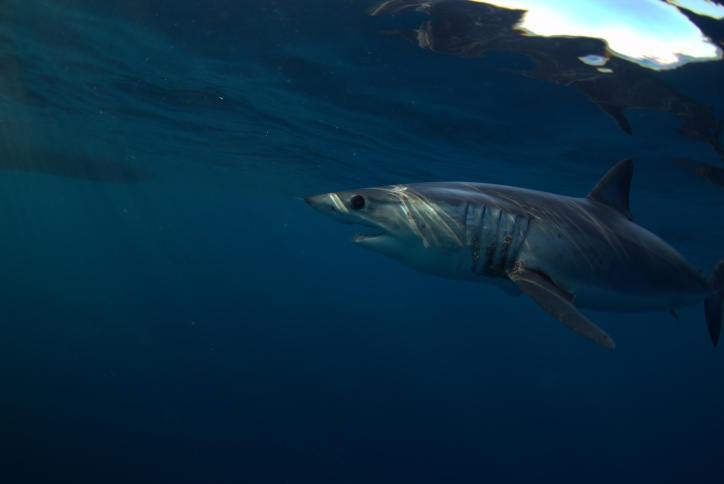Mako: (300, 145, 724, 359)
